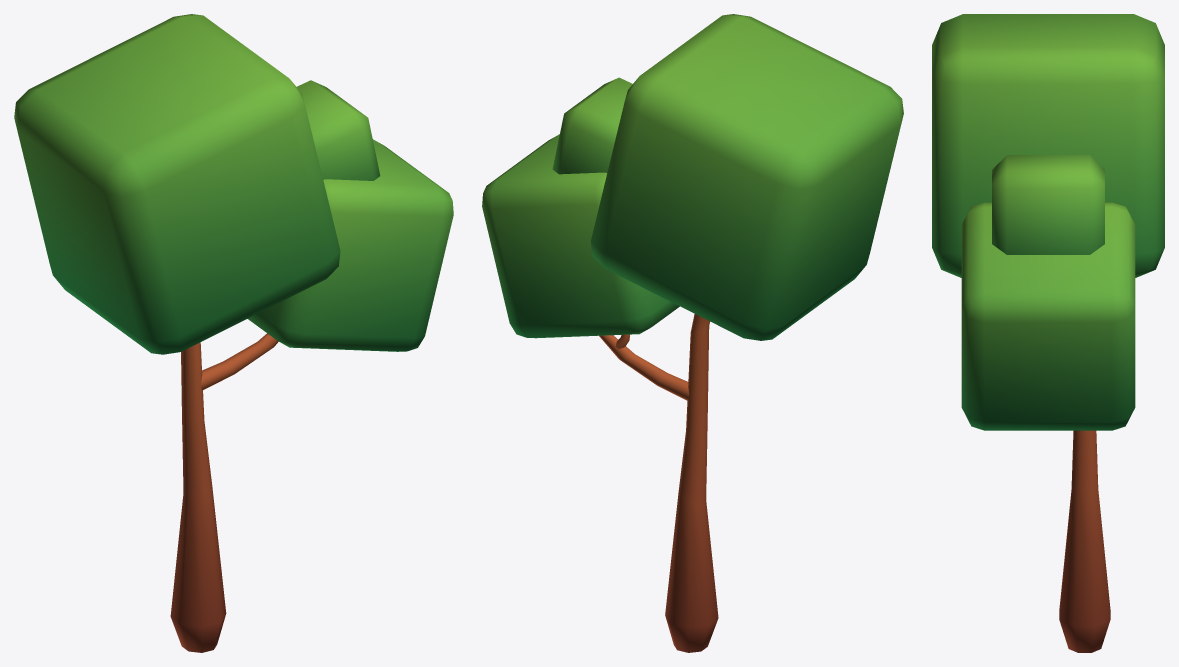
Rendered from Tree_2_B_Color1.glb.
The picture shows the model from 3 angles, left to right: view 1: azimuth 30°, elevation 25°; view 2: azimuth 150°, elevation 25°; view 3: azimuth 270°, elevation 25°; orthographic projection. The views are drawn at different scales.
Parts seen in each view (by area): view 1: Tree_2_B_Color1; view 2: Tree_2_B_Color1; view 3: Tree_2_B_Color1.
Boxes of the visible parts, bbox=[...] form: Tree_2_B_Color1: bbox=[14, 14, 453, 652]; Tree_2_B_Color1: bbox=[482, 14, 903, 652]; Tree_2_B_Color1: bbox=[932, 14, 1164, 652].
Bounding box in the file's own units: 3.7 × 6.04 × 2.1.
1 material, 1 textured.
